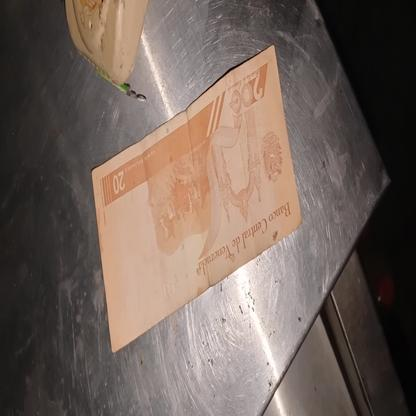twenty-back-vef: (89, 44, 303, 354)
